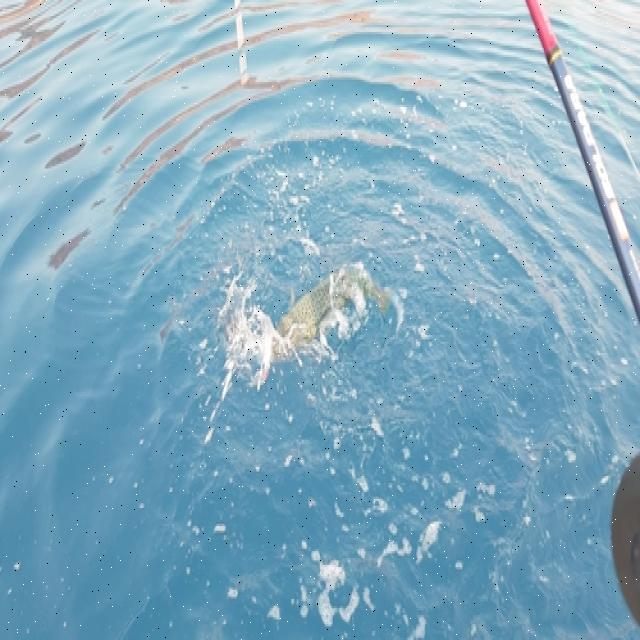Balik: (272, 265, 391, 359)
